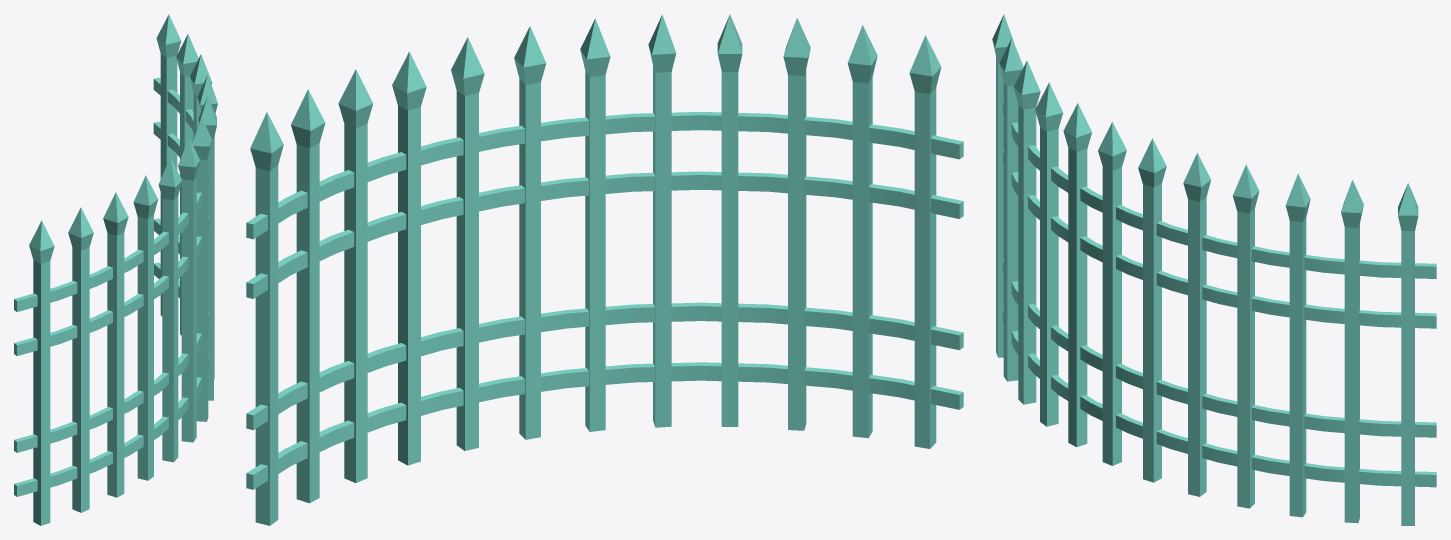
The model's file is ironFenceCurve.glb.
3 views of the same model, side by side, from view 1: azimuth 30°, elevation 25°; view 2: azimuth 150°, elevation 25°; view 3: azimuth 270°, elevation 25° (orthographic). The views are drawn at different scales.
Parts seen in each view (by area): view 1: ironFenceCurve; view 2: ironFenceCurve; view 3: ironFenceCurve.
Boxes of the visible parts, x1,y1,x2,y2 form: ironFenceCurve: [14, 14, 217, 525]; ironFenceCurve: [246, 14, 963, 525]; ironFenceCurve: [992, 14, 1436, 525].
Size of the model in its own units: 0.9725 by 0.8239 by 0.9746.
